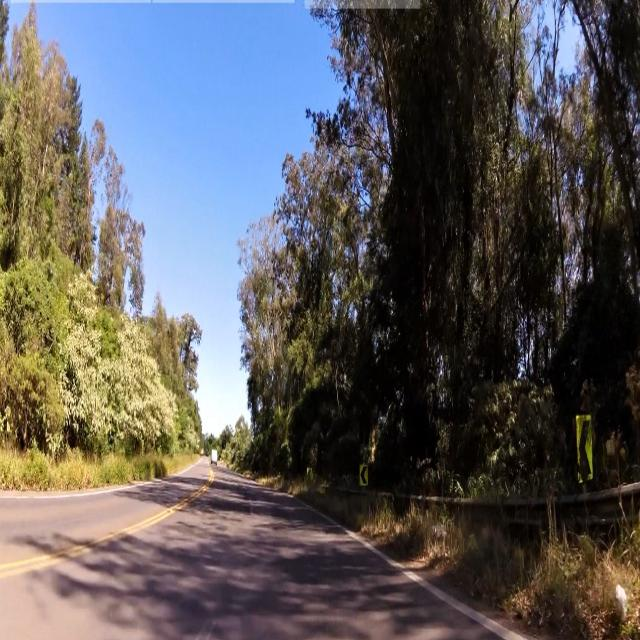Del: (576, 416, 594, 485)
